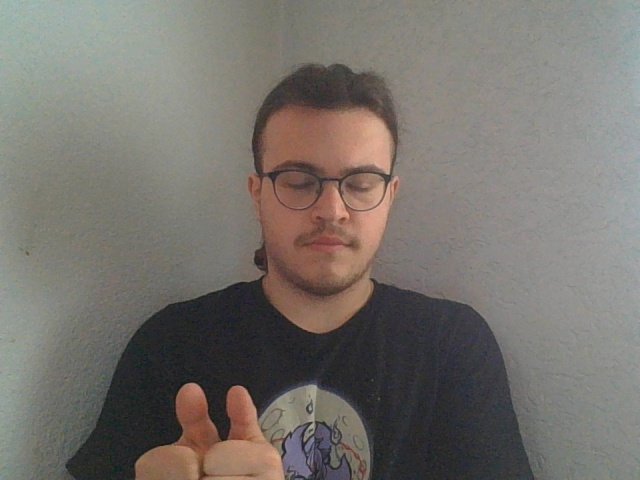Agree: (130, 376, 286, 480)
